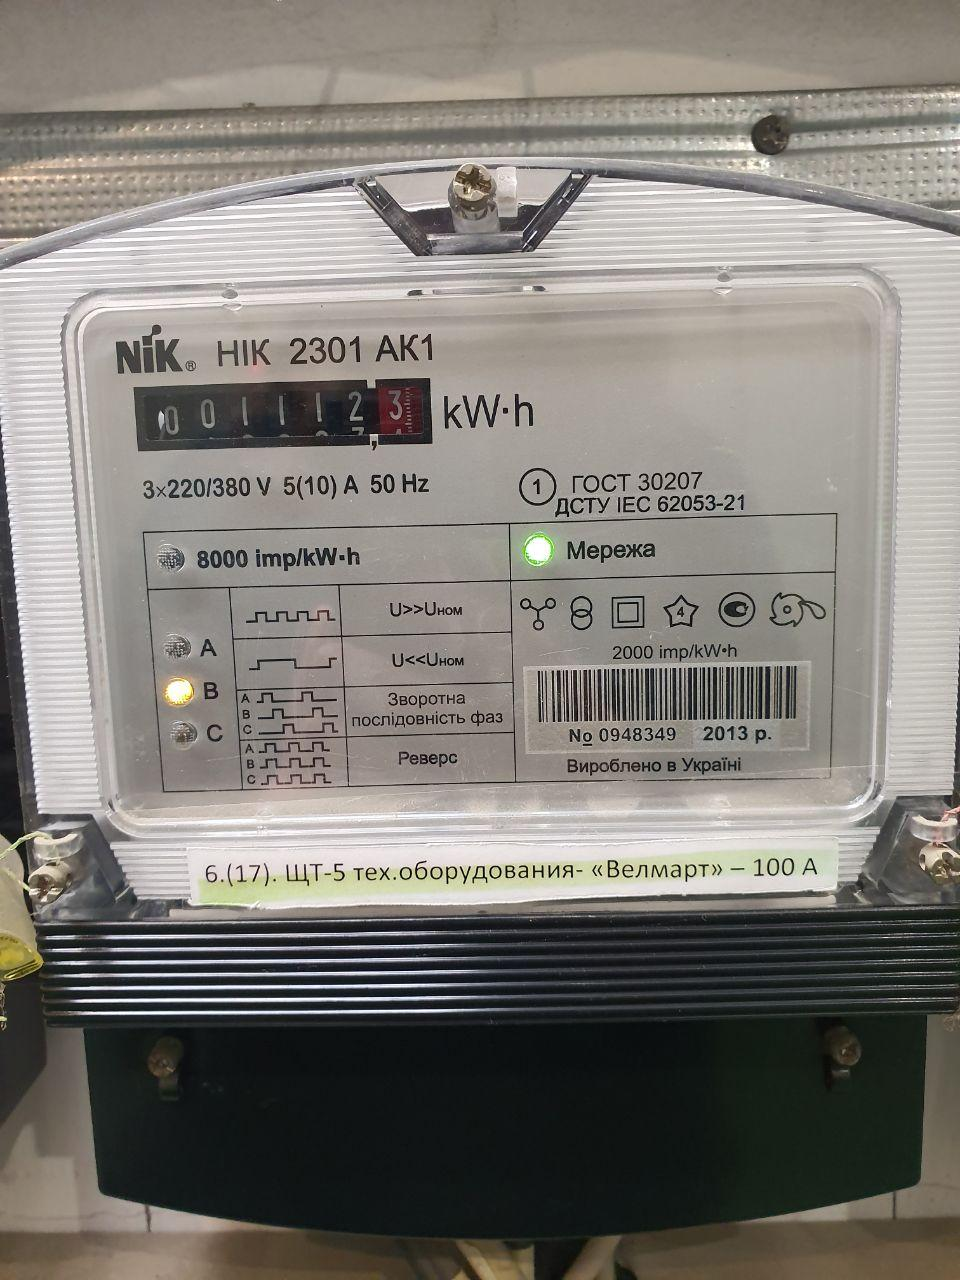0: (197, 395, 219, 433), (161, 402, 183, 437)
1: (236, 392, 254, 430), (274, 391, 288, 429), (312, 389, 326, 426)
2: (345, 389, 367, 425)
3: (386, 388, 404, 423)
screen: (127, 375, 440, 456)
